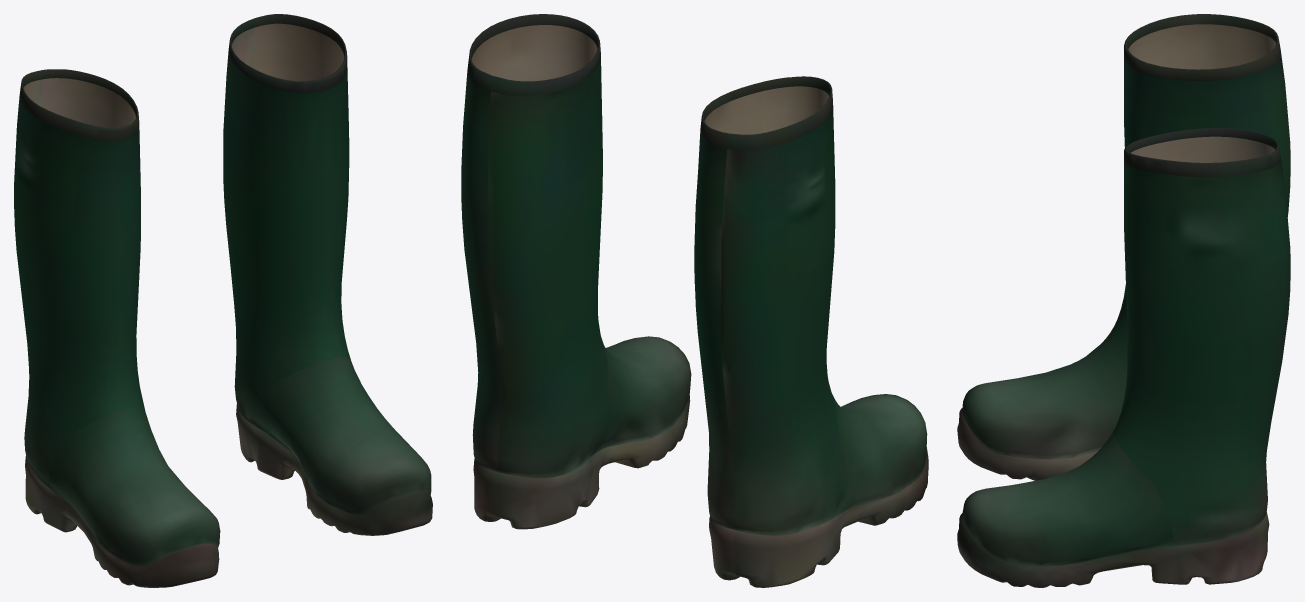
File: rubber_boots.fbx
3 renders of one model, left to right at view 1: azimuth 30°, elevation 25°; view 2: azimuth 150°, elevation 25°; view 3: azimuth 270°, elevation 25°, orthographic. The views are drawn at different scales.
Visible parts, largest first — view 1: rubber_boots_dirty_l; view 2: rubber_boots_dirty_l; view 3: rubber_boots_dirty_l.
Part boxes in pixels (<box>): rubber_boots_dirty_l: <box>14,14,432,587</box>; rubber_boots_dirty_l: <box>461,14,928,587</box>; rubber_boots_dirty_l: <box>957,14,1290,587</box>.
Size of the model in its own units: 28.83 by 37 by 26.42.
1 material, 1 textured.
